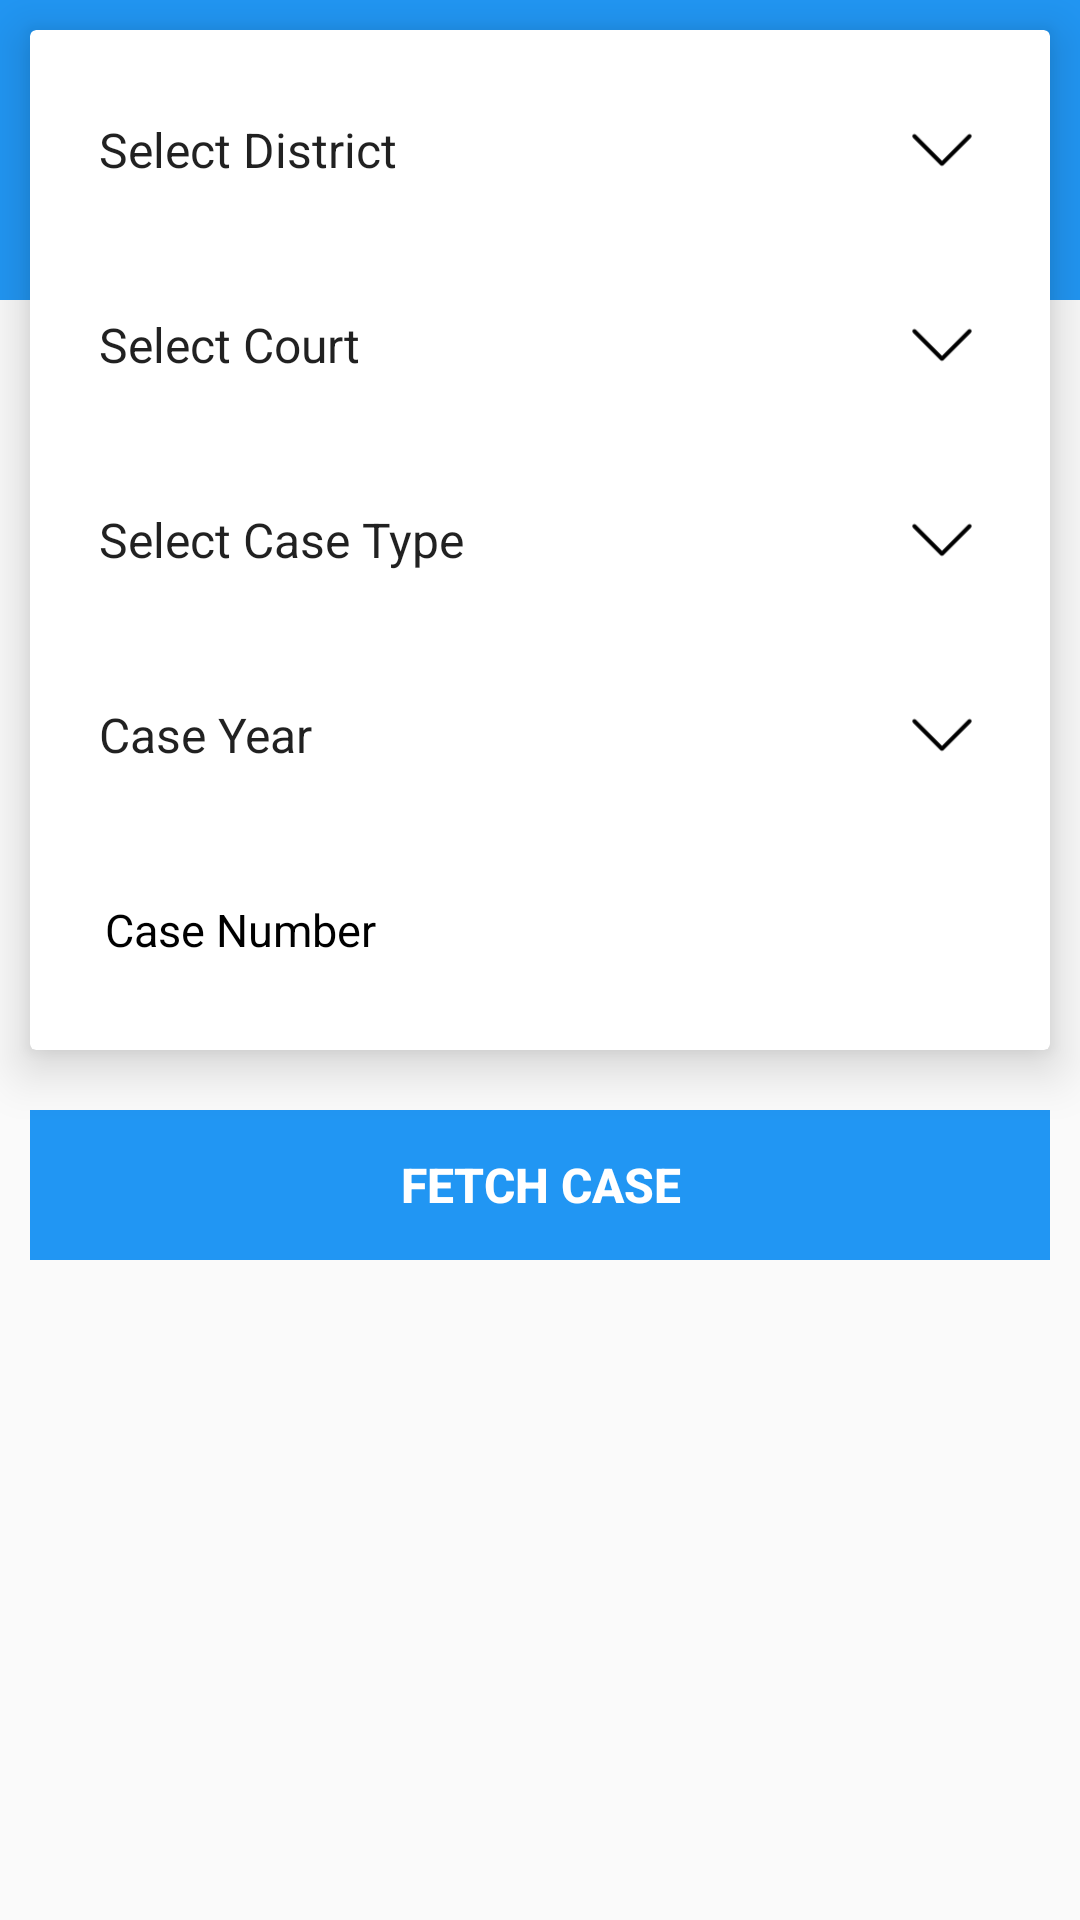

Icons on this 1080 × 1920 Android screen, each with the point to tap as [x,y]:
arrow: [942,149], [942,344], [942,539], [942,734]
